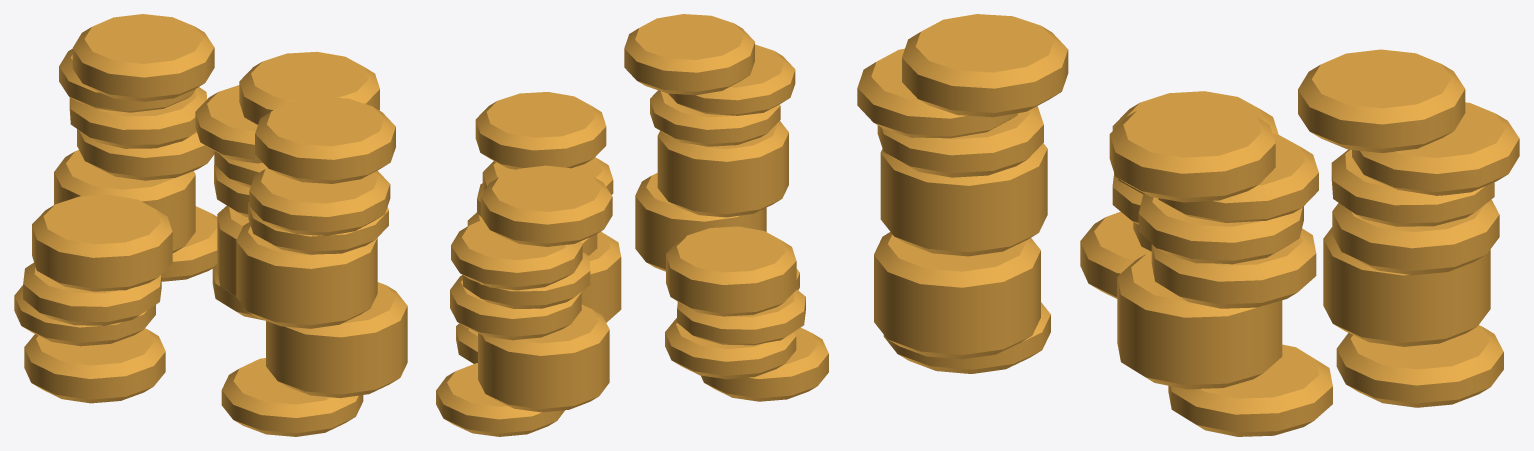
Rendered from Coins.glb.
The picture shows the model from 3 angles, left to right: view 1: azimuth 30°, elevation 25°; view 2: azimuth 150°, elevation 25°; view 3: azimuth 270°, elevation 25°; orthographic projection. The views are drawn at different scales.
Parts seen in each view (by area): view 1: Prop_Coins; view 2: Prop_Coins; view 3: Prop_Coins.
Boxes of the visible parts, x1,y1,x2,y2 form: Prop_Coins: [14, 14, 407, 436]; Prop_Coins: [436, 14, 828, 436]; Prop_Coins: [857, 14, 1519, 436].
Size of the model in its own units: 0.4567 by 0.3439 by 0.6354.
Materials: 1 (1 with a texture image).
